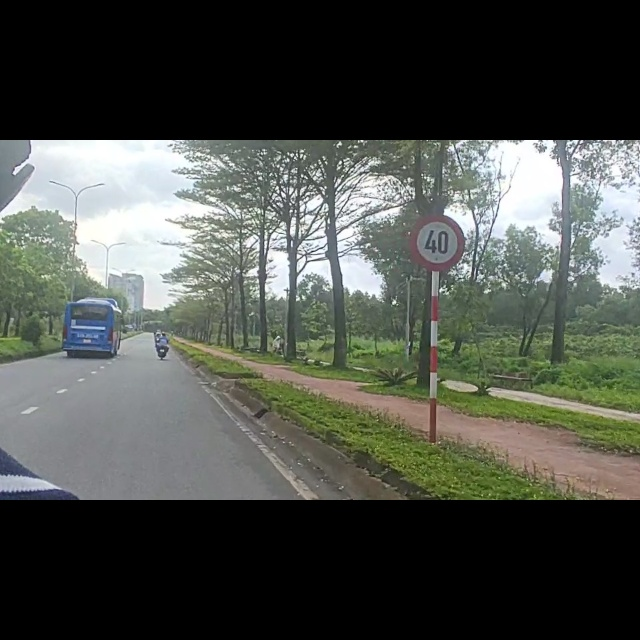Tốc độ tối đa cho phép 40km/h: (409, 214, 465, 272)
